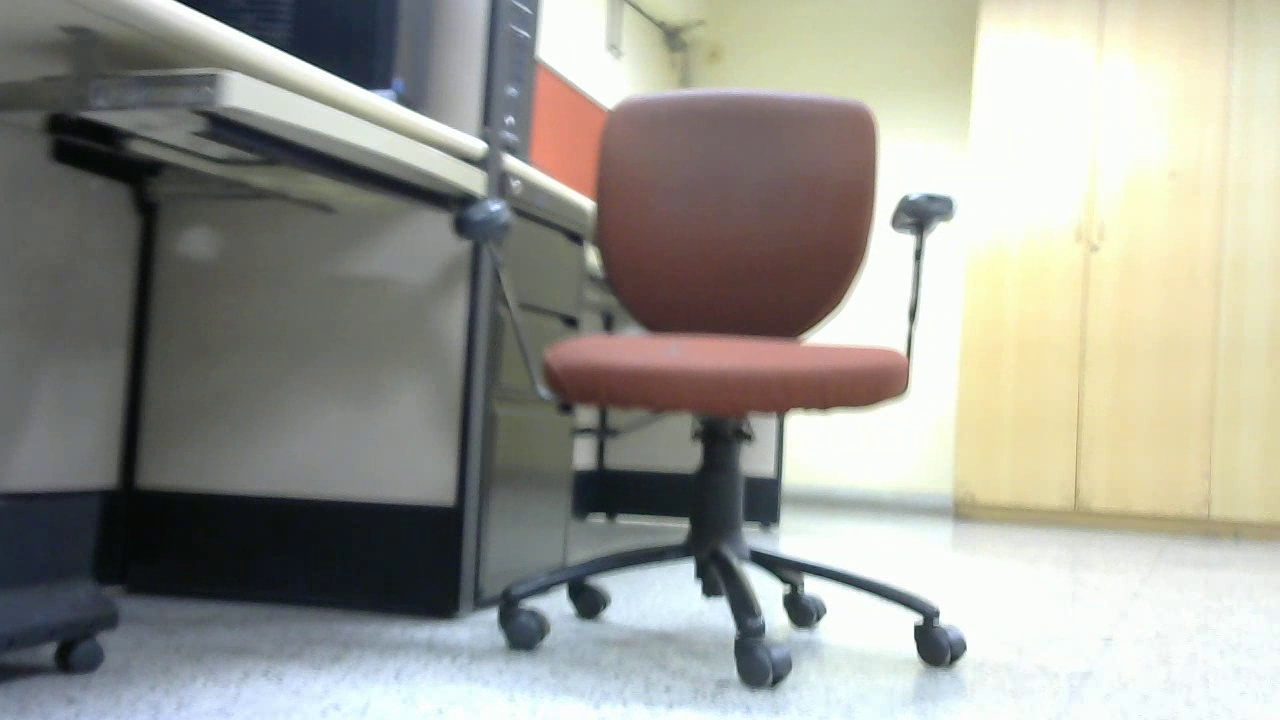chair: (541, 226, 780, 547), (190, 182, 372, 501)
